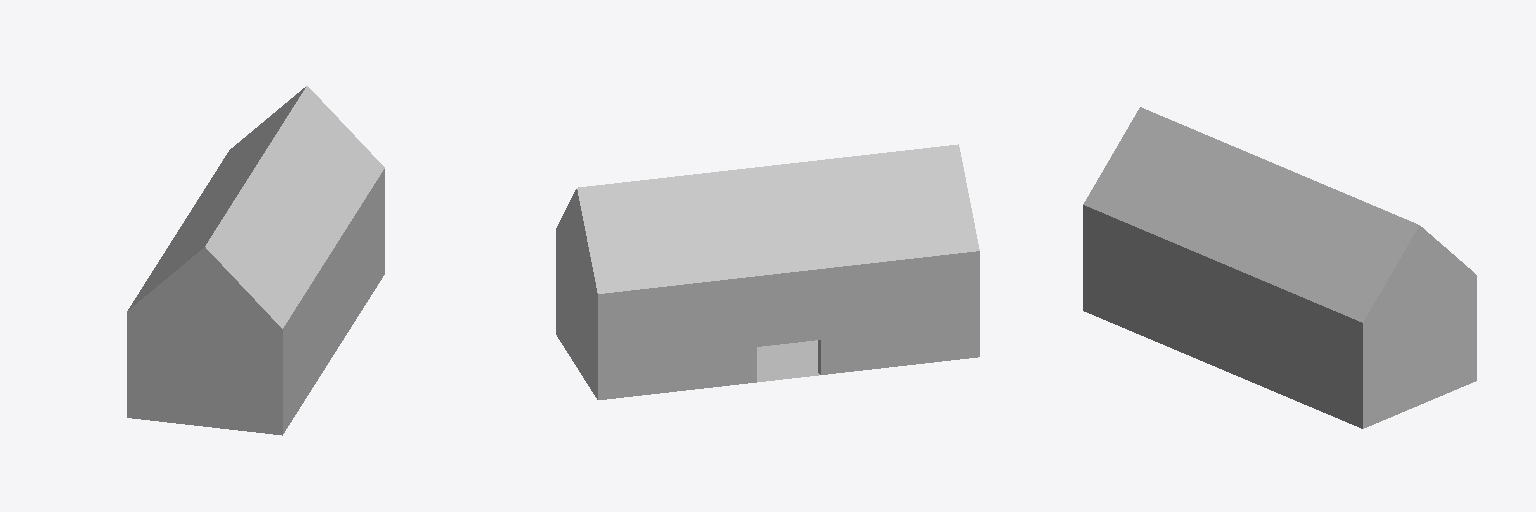
Rendered from supermarket.obj.
3 views of the same model, side by side, from view 1: azimuth 30°, elevation 25°; view 2: azimuth 150°, elevation 25°; view 3: azimuth 270°, elevation 25° (orthographic).
Parts seen in each view (by area): view 1: Cube; view 2: Cube; view 3: Cube.
Boxes of the visible parts, <box> form: Cube: <box>127,86,384,435</box>; Cube: <box>556,144,979,399</box>; Cube: <box>1083,107,1476,428</box>.
Bounding box in the file's own units: 2.42 × 1.22 × 2.42.